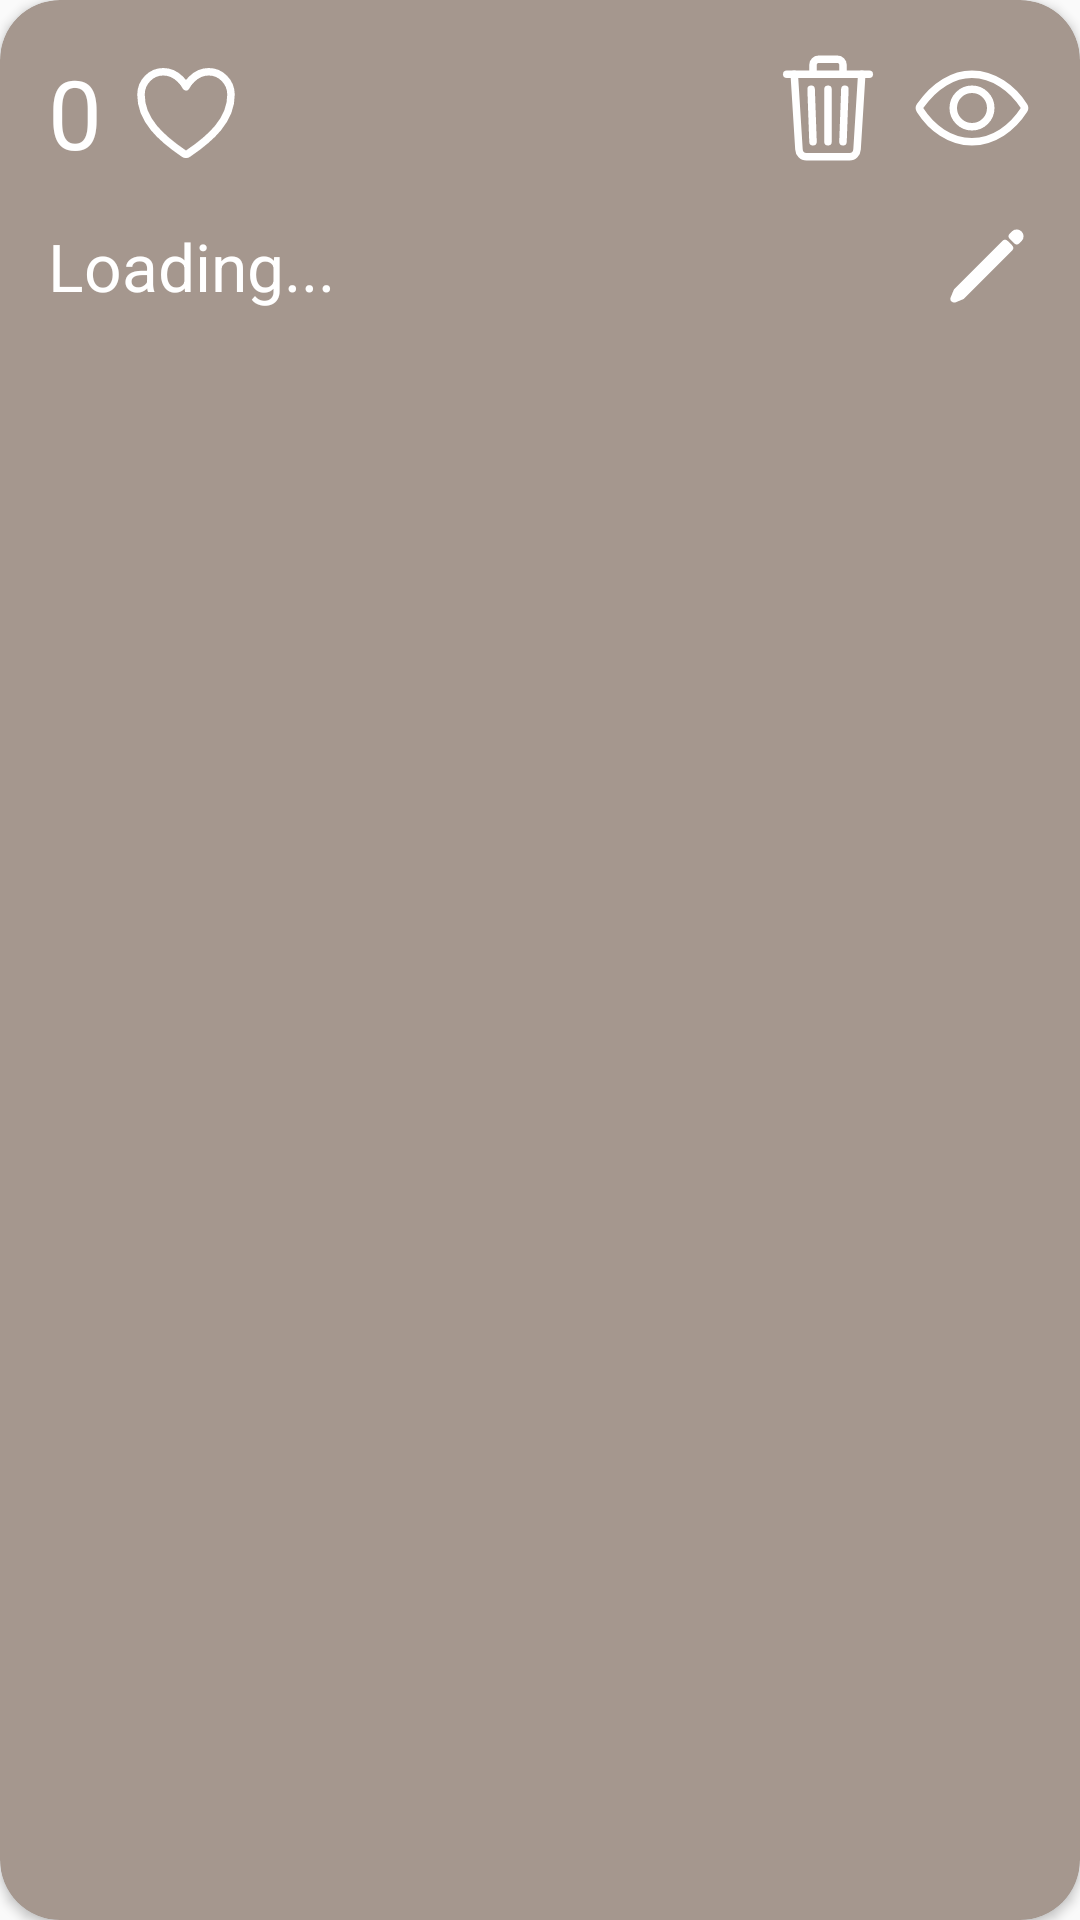

Icon bounding boxes for this 1080×1920 phone screenshot, format (x1=x1, y1=y1, x2=x2, y2=y2):
eye toggle: (x1=915, y1=70, x2=1029, y2=146)
heart toggle: (x1=137, y1=68, x2=235, y2=158)
trash: (x1=783, y1=55, x2=873, y2=161)
